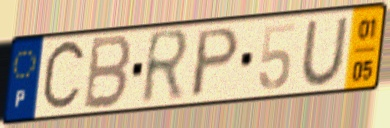5: (256, 19, 298, 92)
B: (80, 33, 135, 113)
C: (39, 36, 89, 117)
P: (187, 24, 243, 102)
R: (138, 26, 193, 109)
U: (299, 14, 351, 88)
